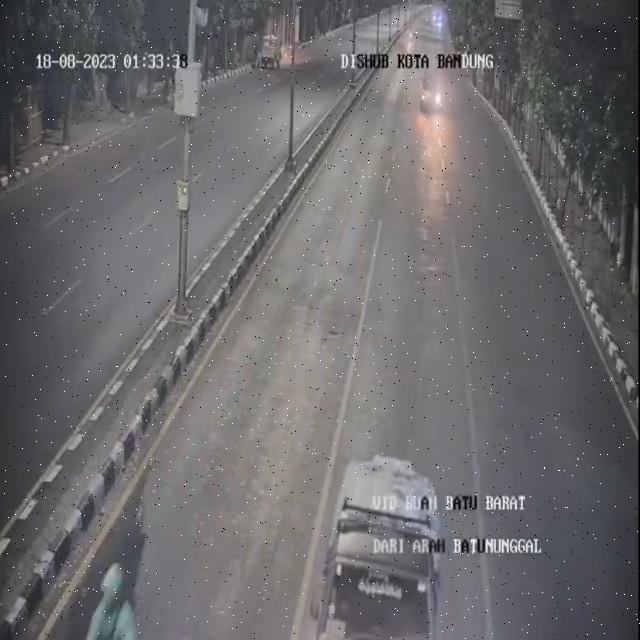cars: (315, 441, 447, 637)
motorcycle: (80, 560, 142, 640), (418, 71, 434, 118)
